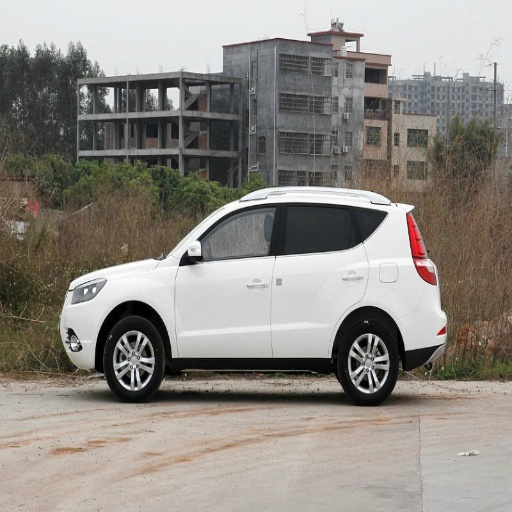back_left_door: (272, 201, 369, 355)
front_left_door: (175, 201, 279, 354)
